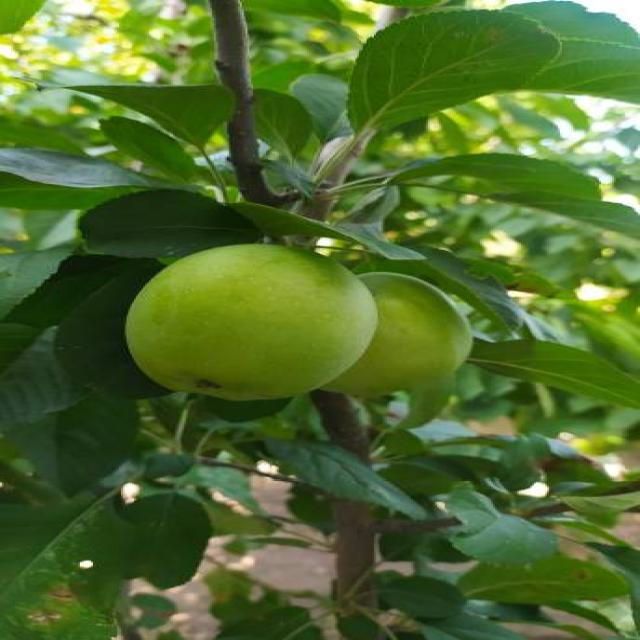Unripe: (131, 241, 372, 401)
